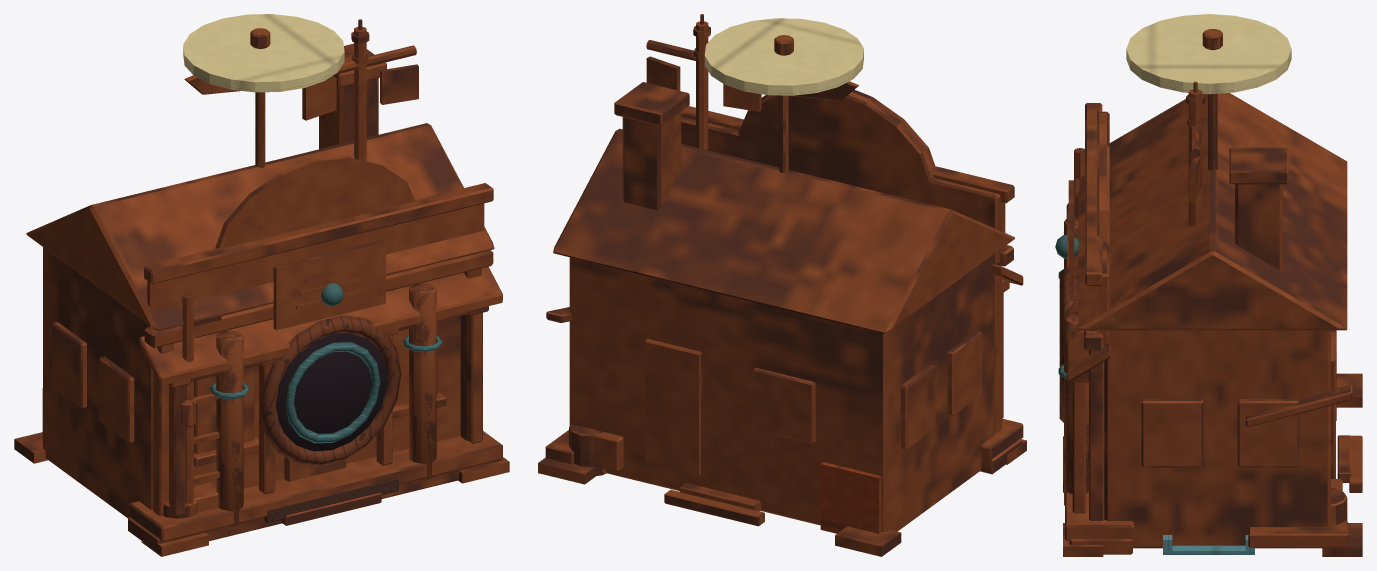
File: claim-office.e10.glb
3 views of the same model, side by side, from view 1: azimuth 30°, elevation 25°; view 2: azimuth 150°, elevation 25°; view 3: azimuth 270°, elevation 25° (orthographic). The views are drawn at different scales.
Parts seen in each view (by area): view 1: ClaimOfficeE10WorldWindow; view 2: ClaimOfficeE10WorldWindow; view 3: ClaimOfficeE10WorldWindow.
Boxes of the visible parts, x1,y1,x2,y2 form: ClaimOfficeE10WorldWindow: [14, 14, 509, 556]; ClaimOfficeE10WorldWindow: [538, 14, 1026, 556]; ClaimOfficeE10WorldWindow: [1055, 14, 1362, 556].
Bounding box in the file's own units: 4.26 × 5.02 × 3.2.
1 material, 1 textured.
